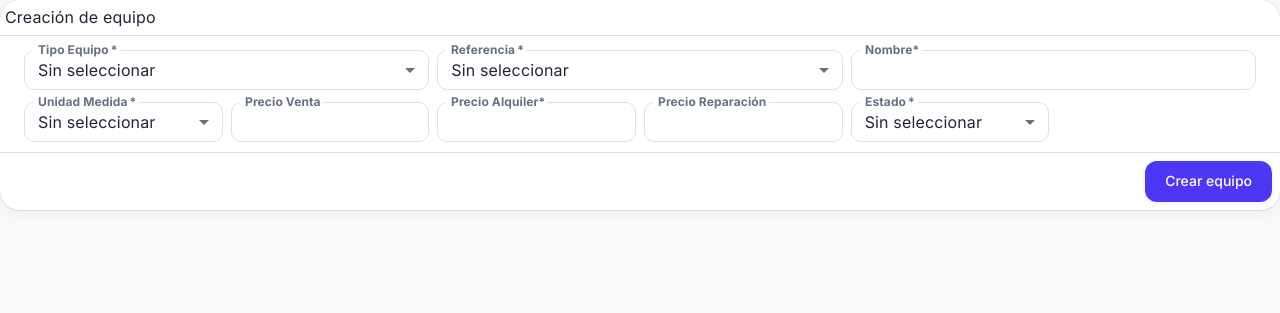
Test: FormularioCrearEquipo › exige los campos obligatorios
The image size is (1280, 313).
Click the button "Crear equipo".
click(1209, 181)  # box [1145,161,1272,202]
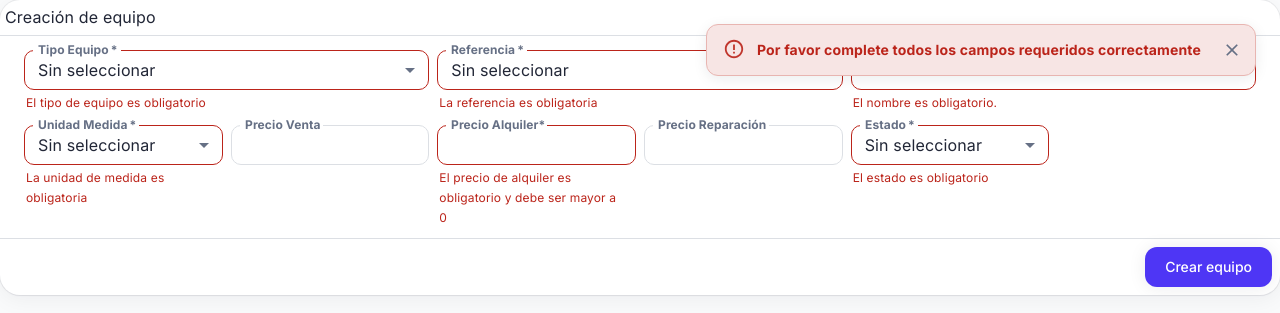
Now the text "Por favor complete todos los campos requeridos correctamente" is shown, box [757,41,1201,58]
Now the text "La referencia es obligatoria" is shown, box [439,95,598,110]
Now the text "El nombre es obligatorio." is shown, box [853,95,997,110]
